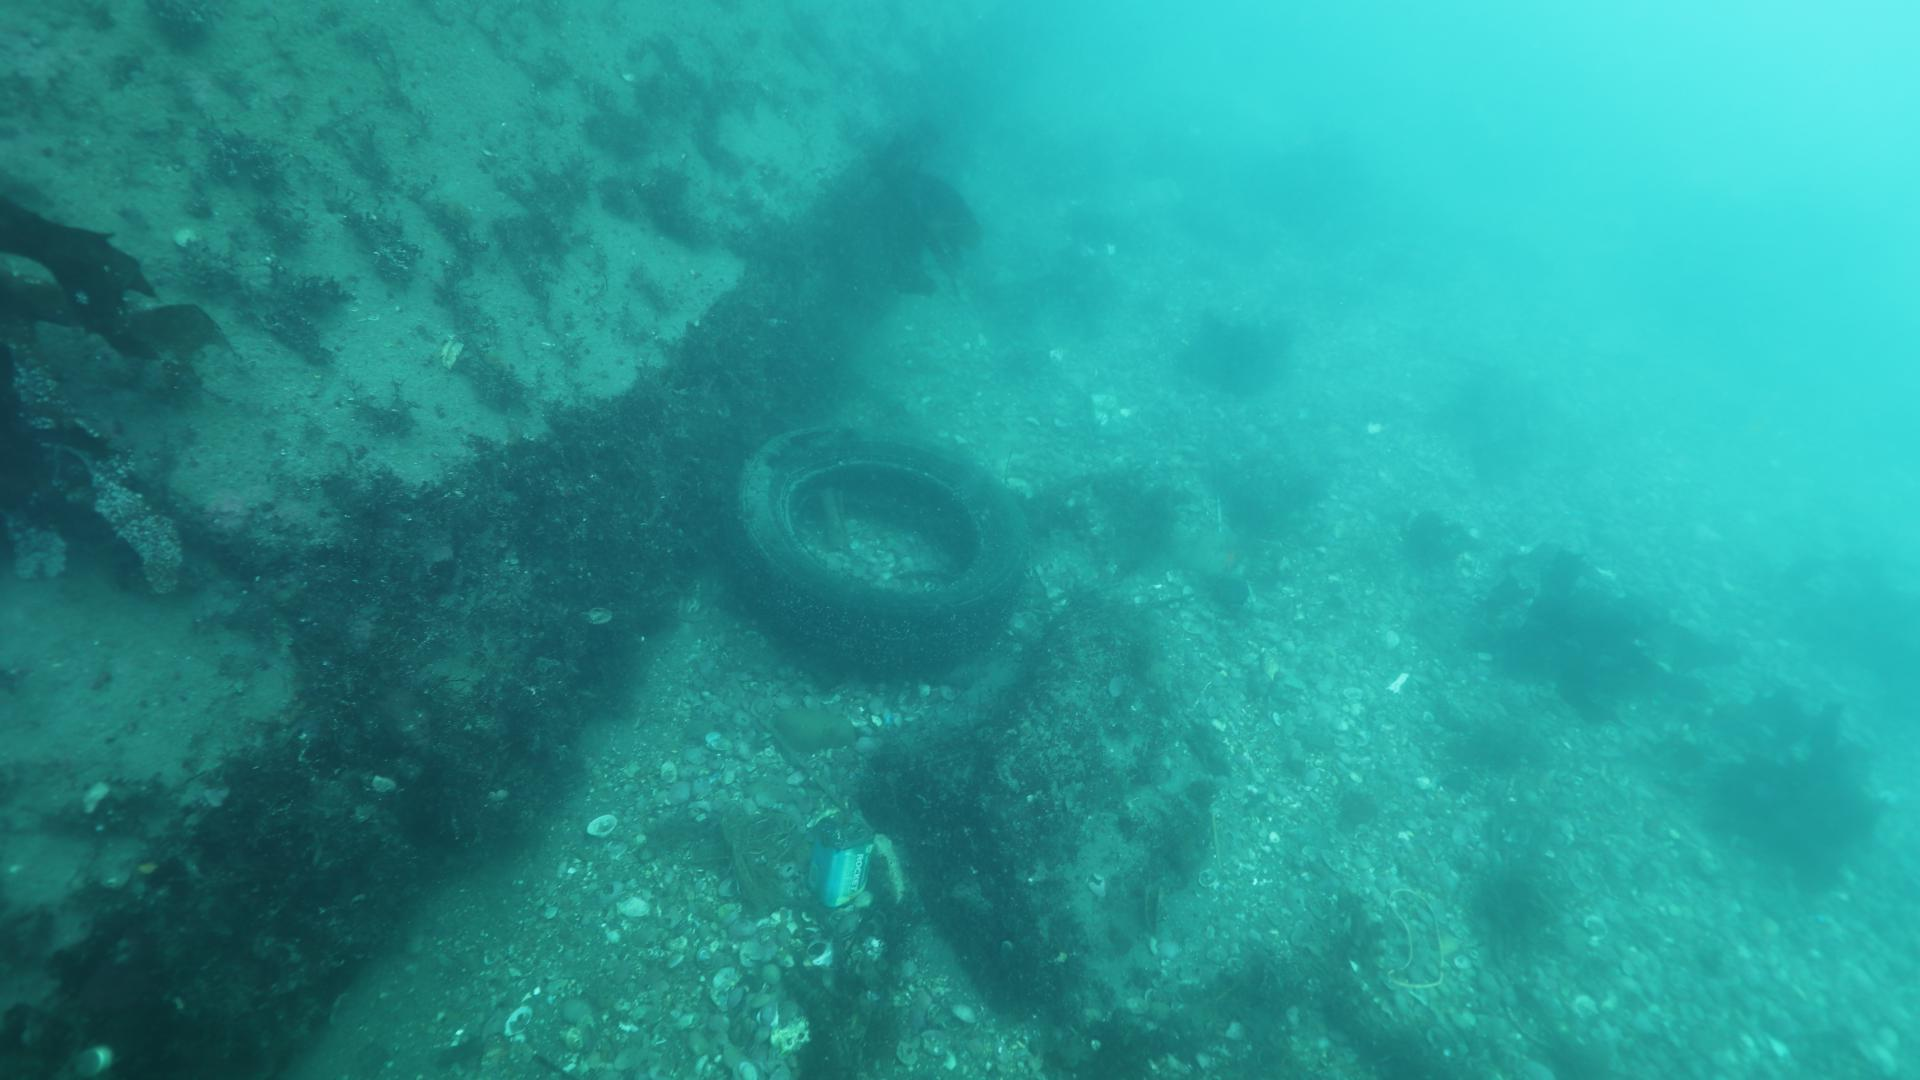tire: (735, 419, 1030, 678)
